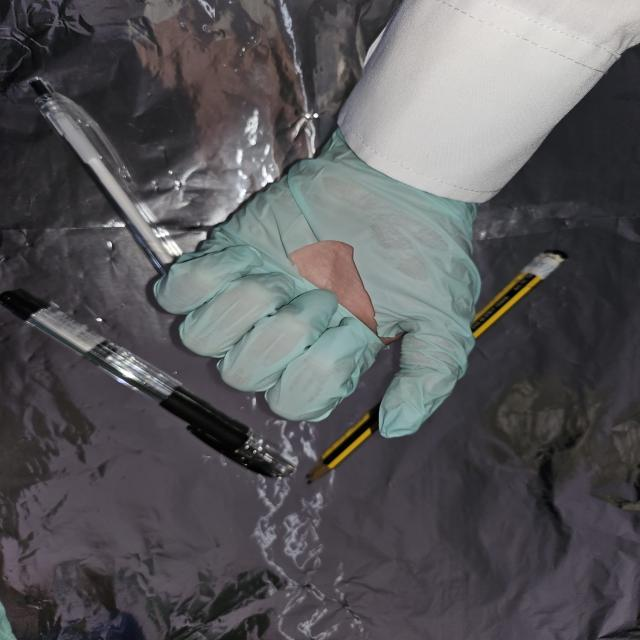gloves_damaged: (152, 126, 487, 439)
